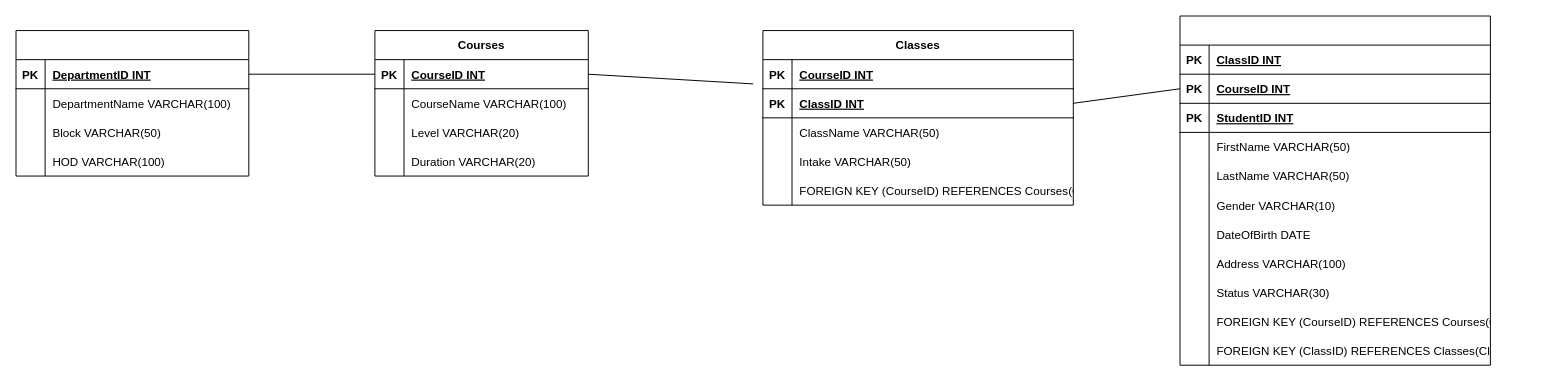
The diagram is 1558 pixels wide and 381 high, and some of its shapes have lost their labels. The box of each missing label's shape, as (x1, y1, x2, y2) in pixels:
Departments: (15, 30, 249, 176)
Students: (1179, 15, 1490, 365)
